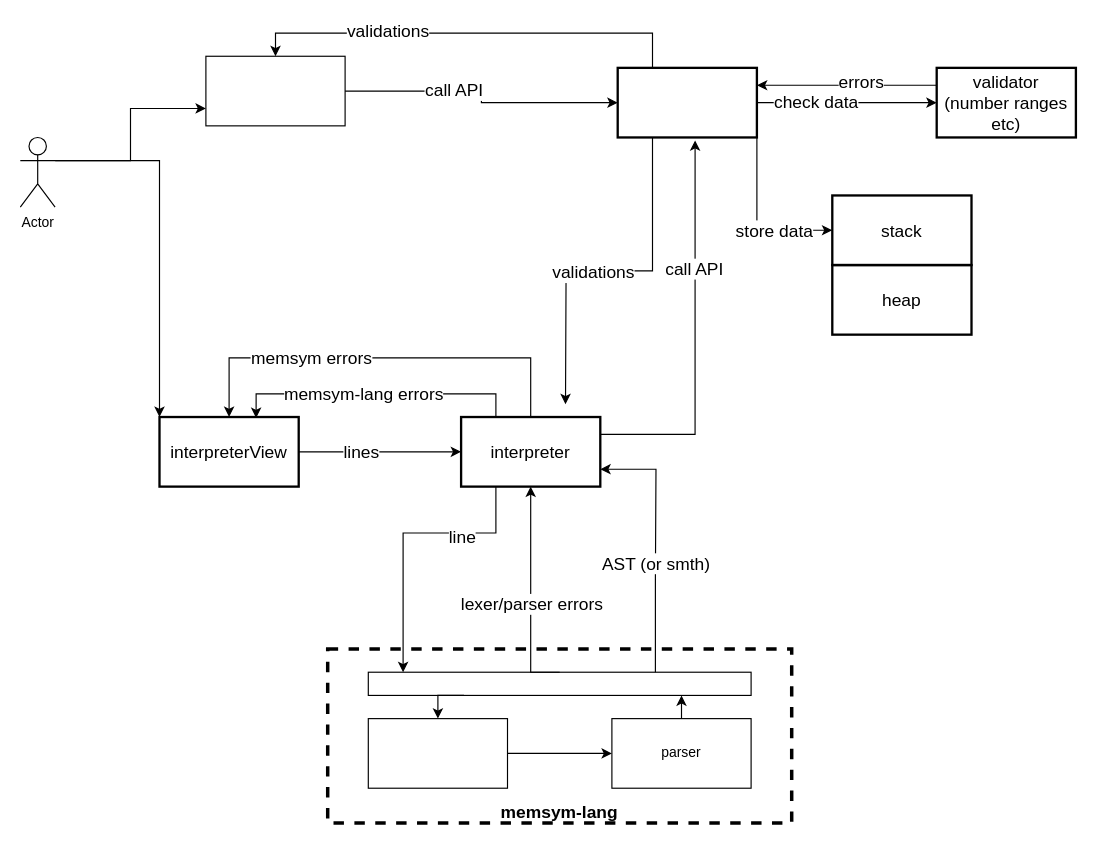
Some shapes in this 1097 by 844 pixel diagram are drawn without their labels. The shapes that lost their labels are listed below. From the top down, each one's centre as x and y in pixels, then its label:
(x=275, y=90): from
(x=686, y=102): memsym
(x=559, y=683): API
(x=437, y=752): lexer
